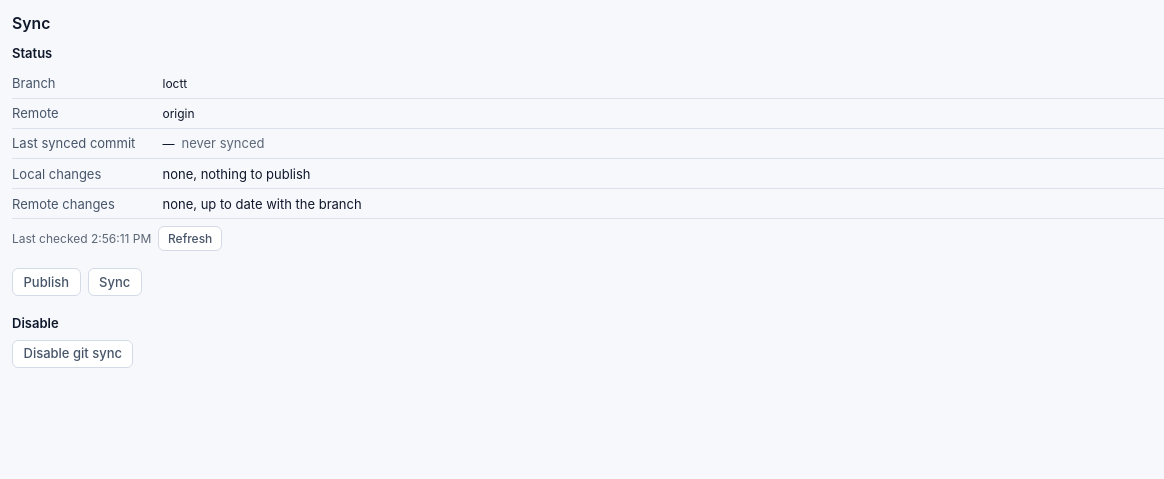
Test: GitSyncPanel — Disable inline failure notice (A328/B6) › shows the unknown-state copy and keeps the confirm box open on a timeout
This screenshot has width=1164, height=479.
Click the button with test id "git-disable".
click(73, 354)  # box [12,340,134,368]
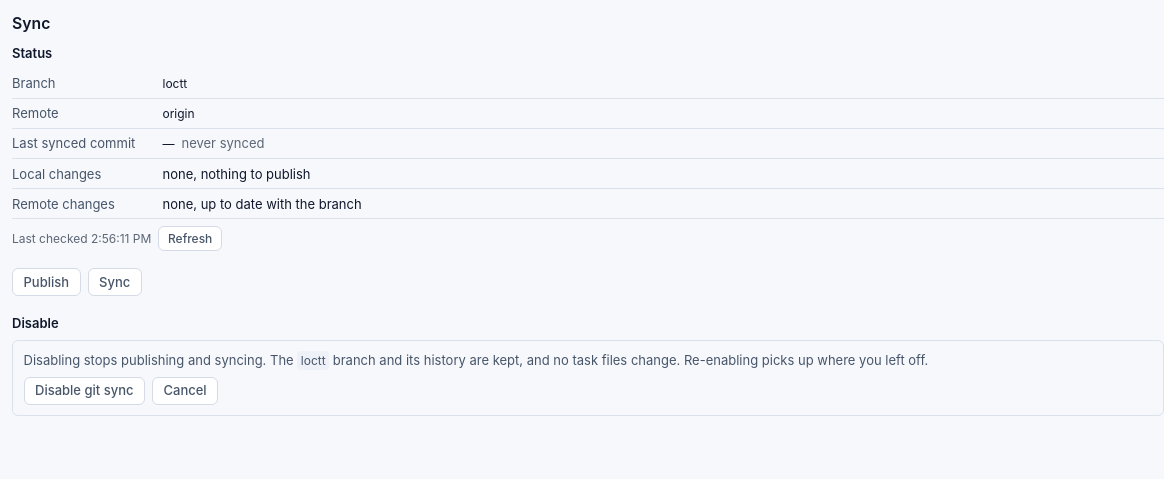
Now the element with test id "git-disable-confirm" is shown, box [12,340,1163,416]
Click the button with test id "git-disable-confirm-button".
click(84, 391)  # box [24,377,145,405]
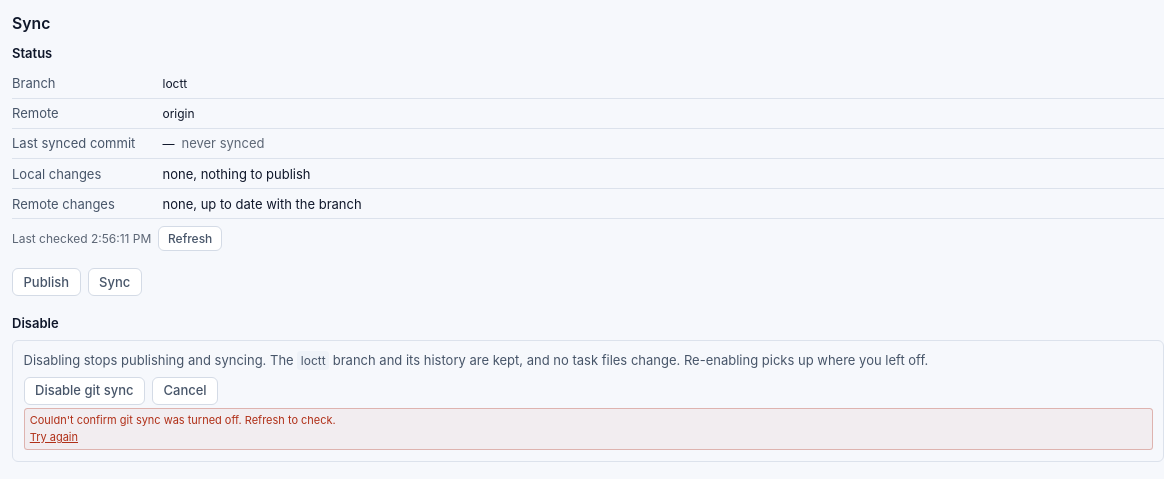
Now the element with test id "git-disable-confirm" is shown, box [12,340,1163,462]
Now the message with test id "git-disable-error" shows "Couldn't confirm git sync was turned off. Refresh to check.", box [30,413,336,427]
